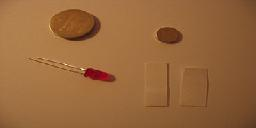LED: (27, 54, 114, 88)
